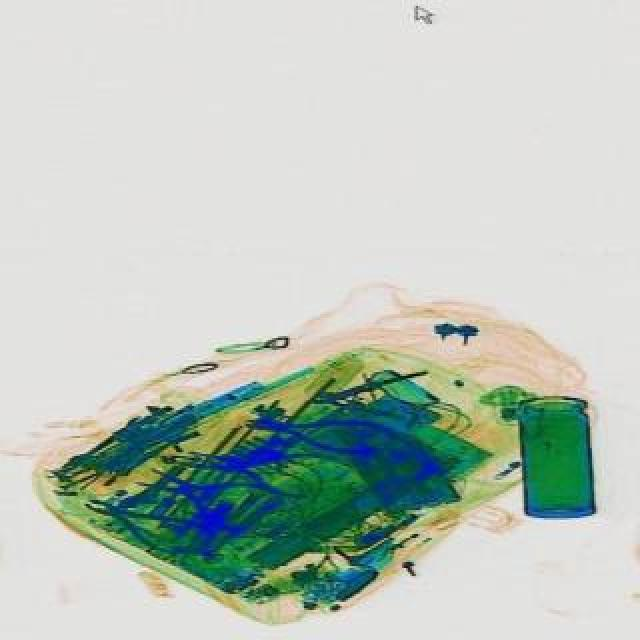wrench: (124, 446, 284, 544), (174, 434, 334, 502), (240, 400, 394, 464), (76, 480, 198, 560)
